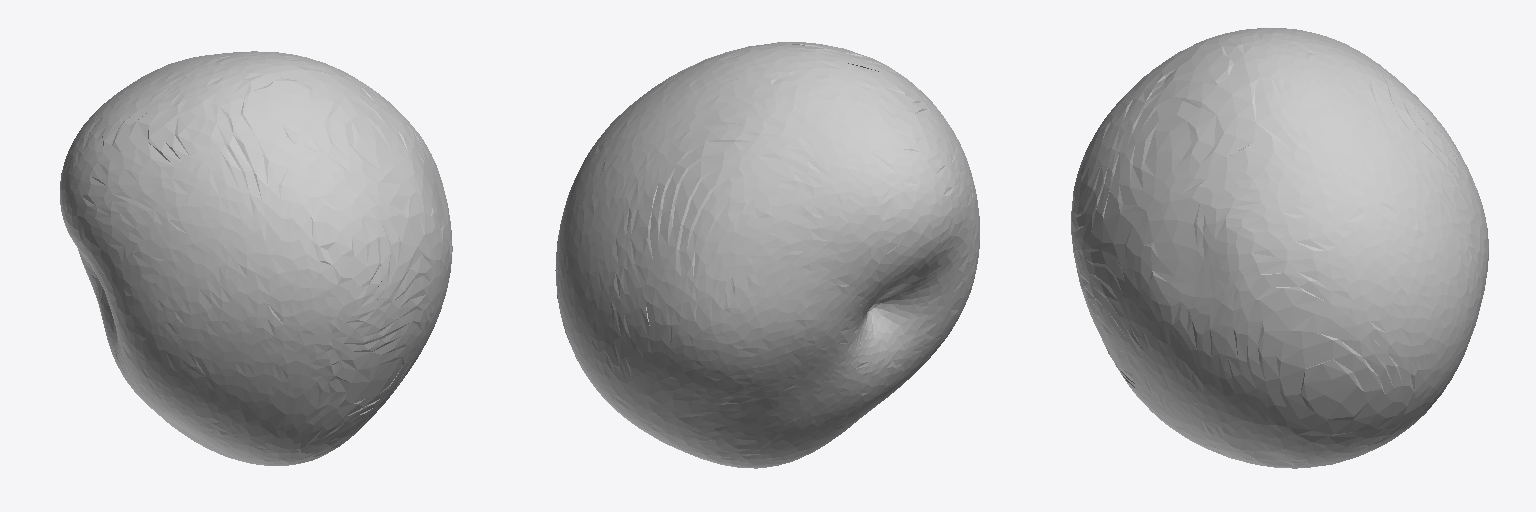
The model's file is Dactyl.obj.
3 renders of one model, left to right at view 1: azimuth 30°, elevation 25°; view 2: azimuth 150°, elevation 25°; view 3: azimuth 270°, elevation 25°, orthographic.
Parts seen in each view (by area): view 1: Cube; view 2: Cube; view 3: Cube.
Boxes of the visible parts, x1,y1,x2,y2 form: Cube: [60, 51, 452, 465]; Cube: [555, 42, 979, 468]; Cube: [1071, 28, 1488, 468].
Bounding box in the file's own units: 2.52 × 2.67 × 2.55.